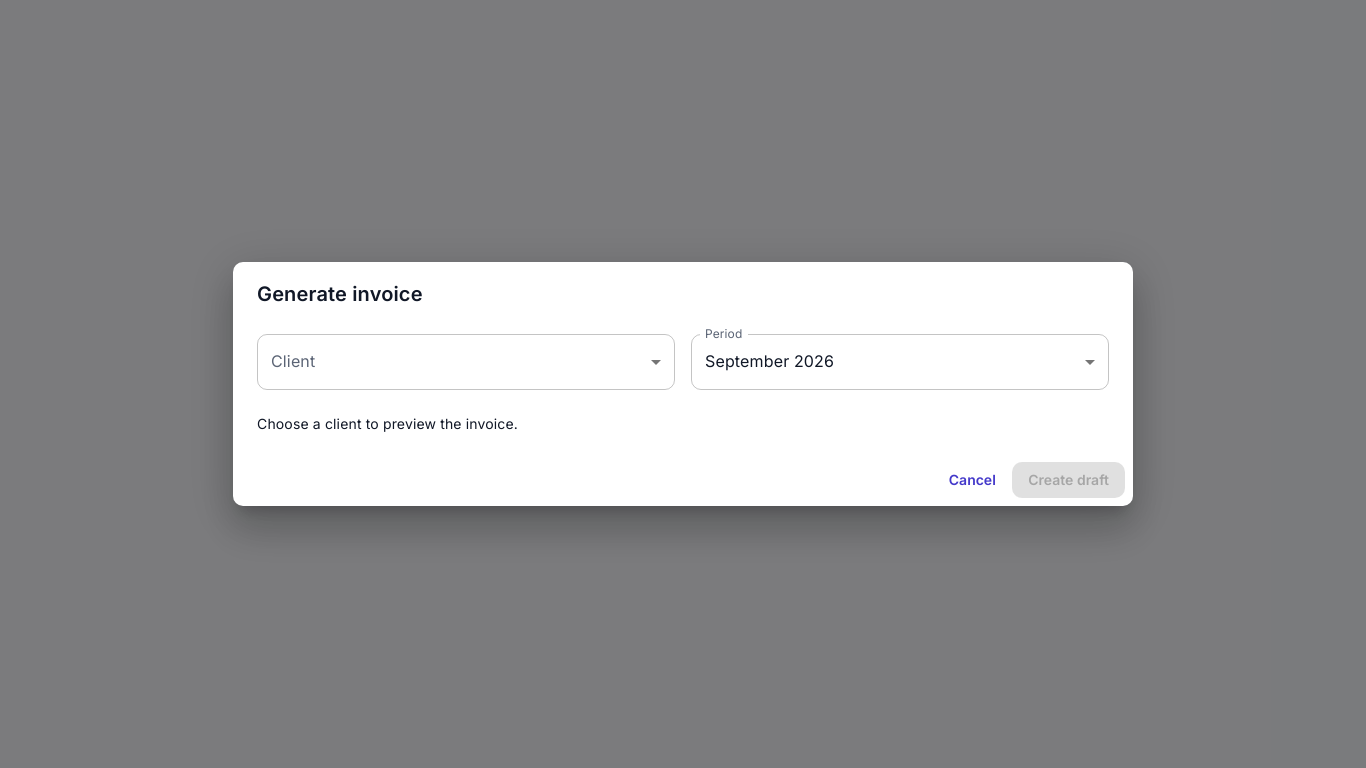
Scenario: GenerateInvoiceDialog › warns that an existing draft will be replaced
The image size is (1366, 768).
Click the dropdown named "Client" at x=466, y=362, box [257,334,675,390]
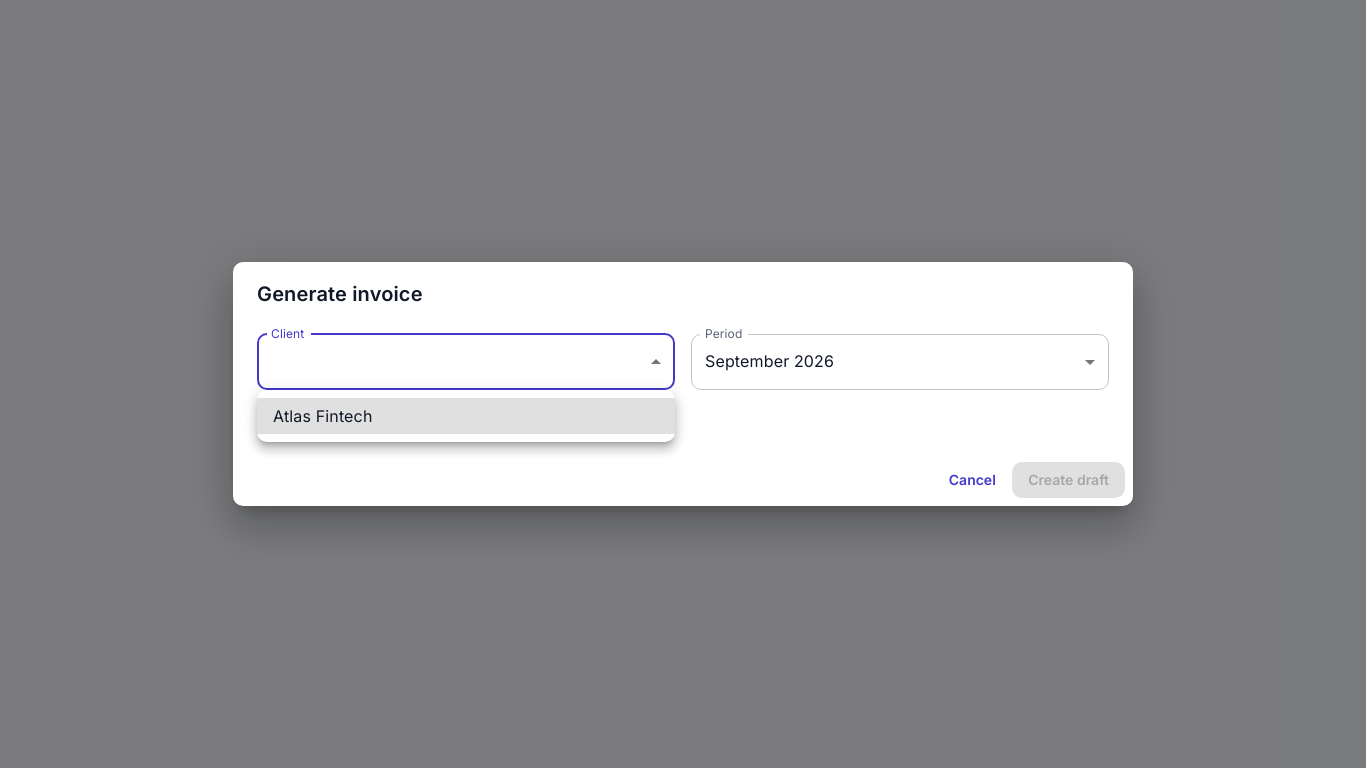
Click the option "Atlas Fintech" at x=323, y=416, box [257,398,675,434]
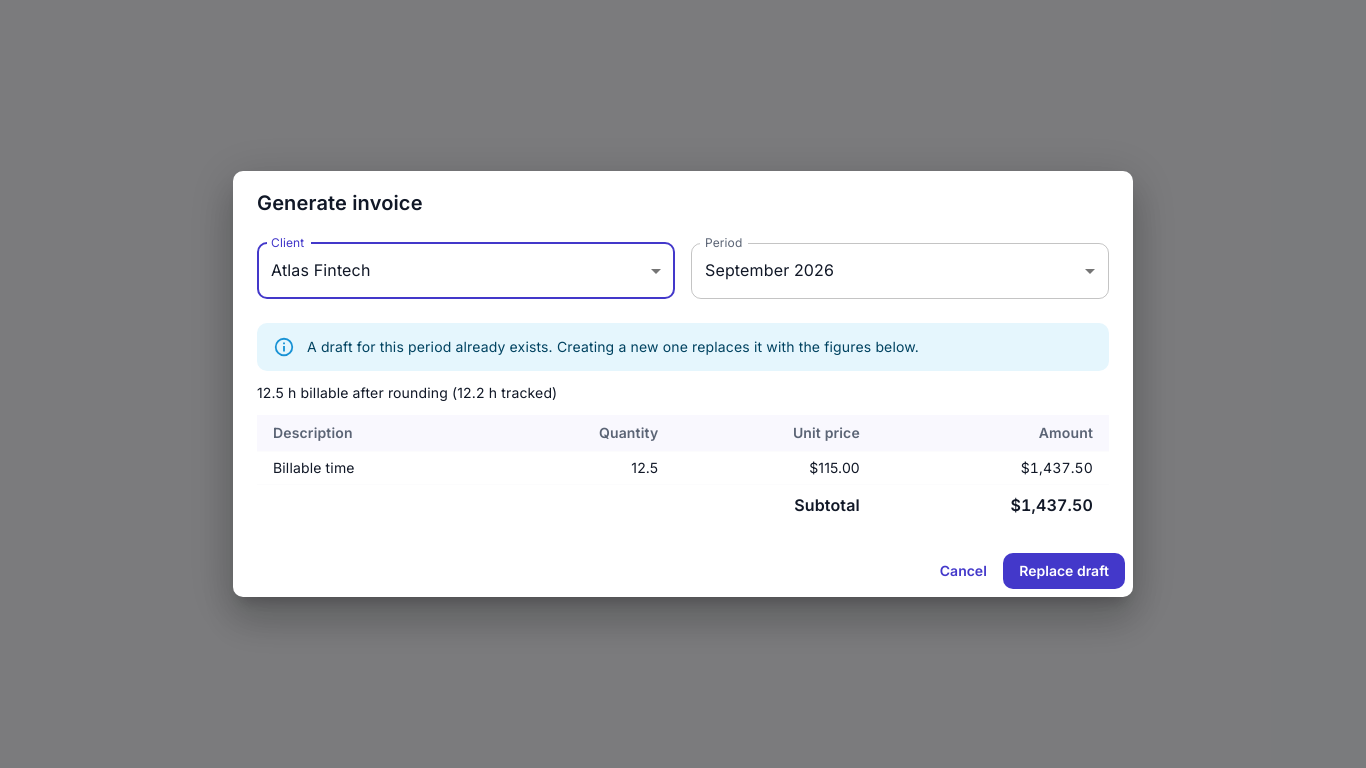
Expected: the text "already exists" is shown, [307,338,919,355]
Expected: the button "Replace draft" is enabled, [1003,553,1125,589]
